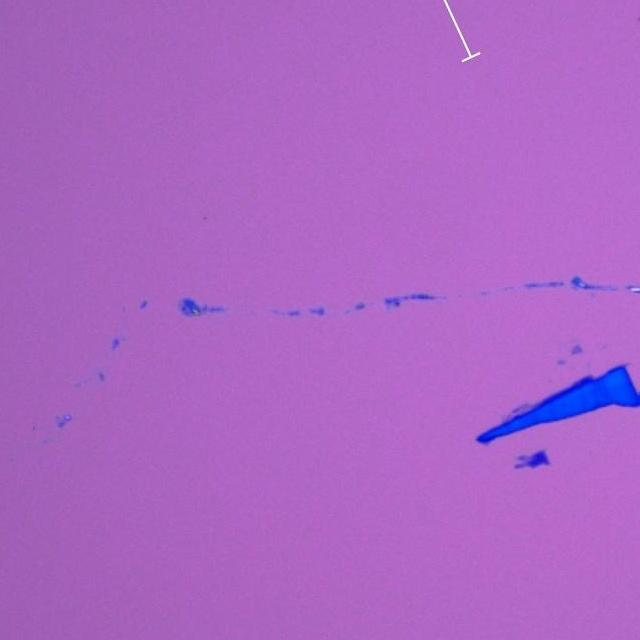monolayer-eWW4: (570, 344, 582, 354)
